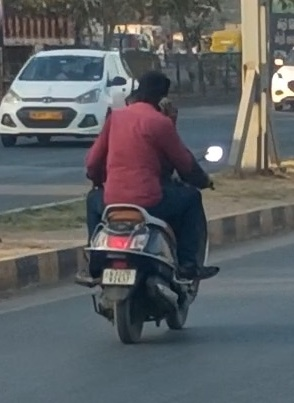BikeWithRider: (67, 65, 228, 348)
NoHelmet: (124, 66, 175, 116)
